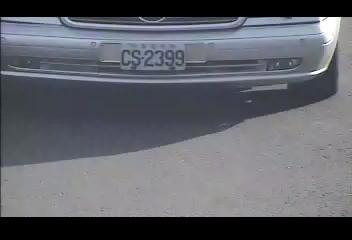plate: (119, 40, 185, 72)
